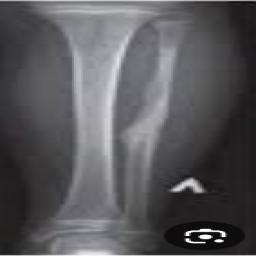cancer: (119, 80, 169, 148)
